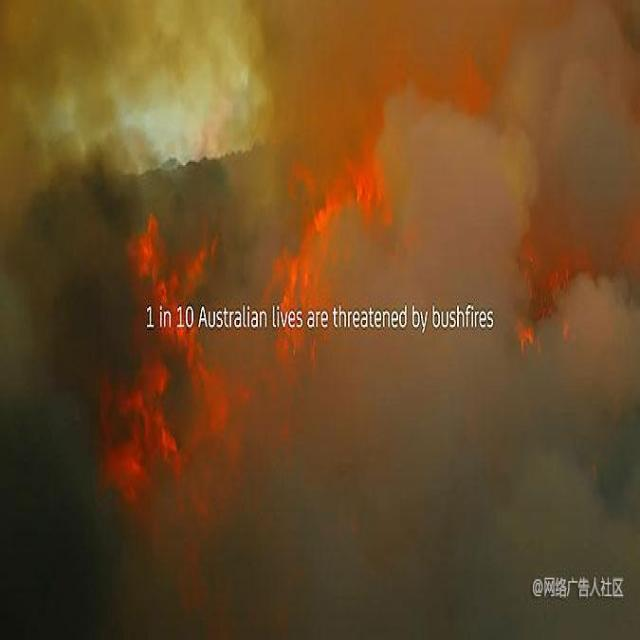fire: (99, 200, 253, 522), (270, 108, 390, 361)
